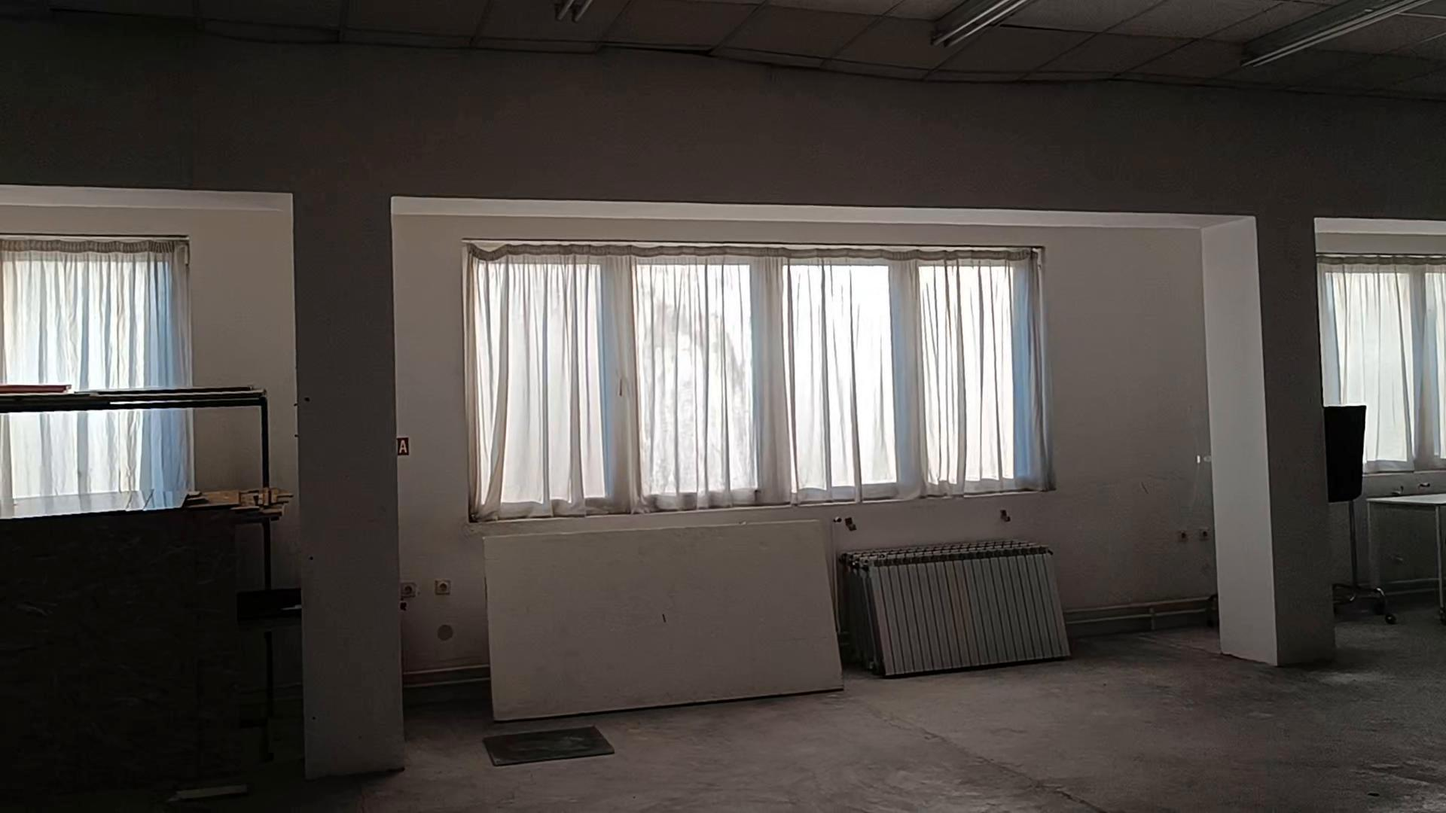ceiling: (0, 0, 1445, 99)
floor: (200, 612, 1445, 812)
wall: (0, 14, 1445, 778), (394, 198, 1273, 662), (4, 188, 299, 493)
